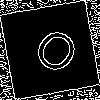O: (25, 25, 83, 85)
